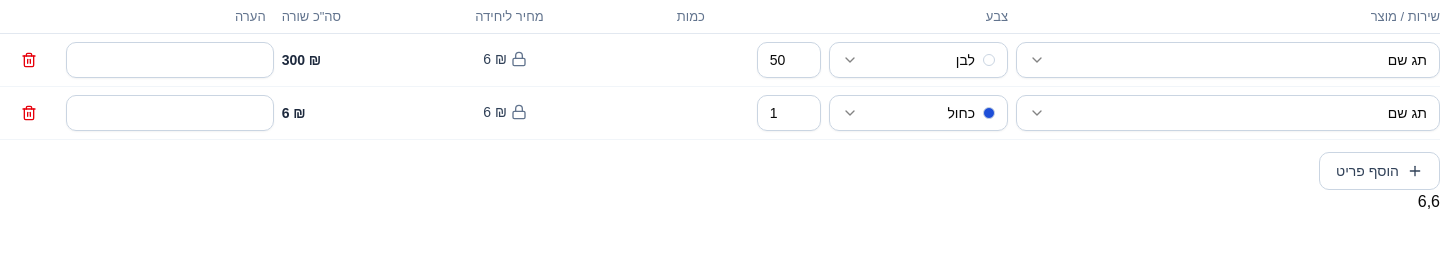
בונה-ההצעה — מדרגה לפי הכמות הכוללת של המוצר › 50 + 50 ⇒ שתי השורות במדרגת ה-100, עם הכיתוב המשני; מחיקה ⇒ חזרה למחיר הבסיס
Step 1. Replace the text in the number field with test id "quote-line-qty-b" with "50" → (789, 113), box [757, 95, 821, 131]
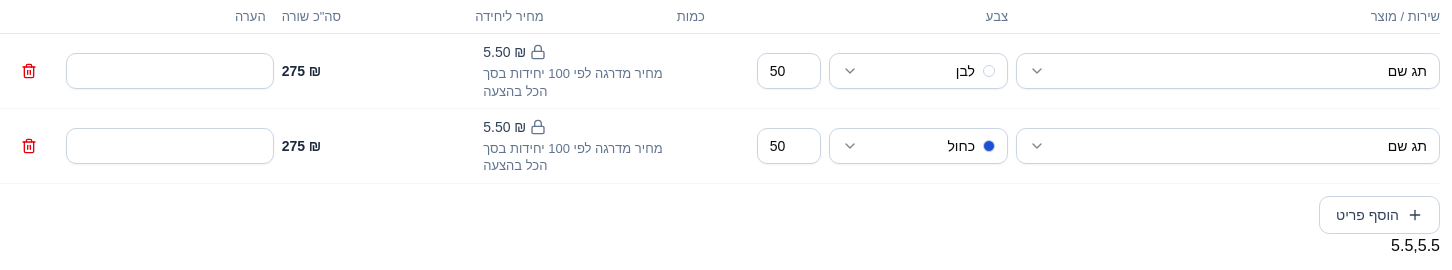
Now the text with test id "prices" reads "5.5,5.5", box [1391, 237, 1440, 254]
Now the text with test id "quote-line-combined-tier-a" reads "מחיר מדרגה לפי 100 יחידות בסך הכל בהצעה", box [483, 66, 663, 99]
Now the text with test id "quote-line-combined-tier-b" is shown, box [483, 140, 677, 175]
Step 2. Click the button with test id "quote-line-remove-b" → click(29, 146), box [12, 129, 46, 163]
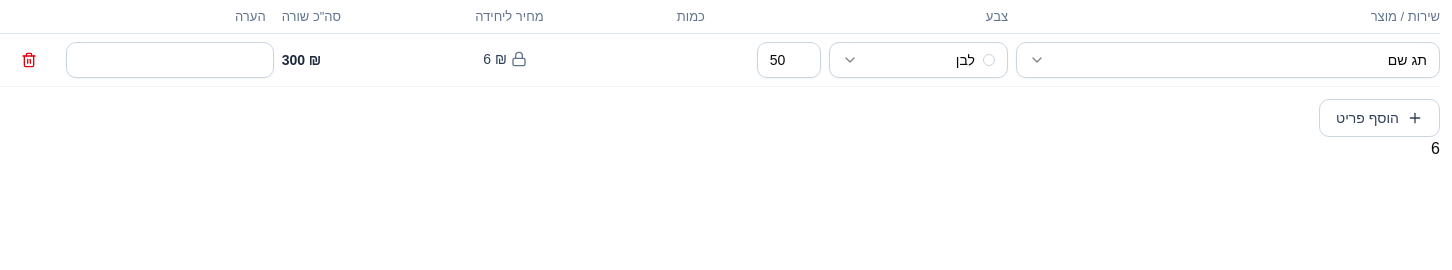
Now the text with test id "prices" reads "6", box [1431, 140, 1440, 157]
Now the text with test id "quote-line-combined-tier-a" is gone
